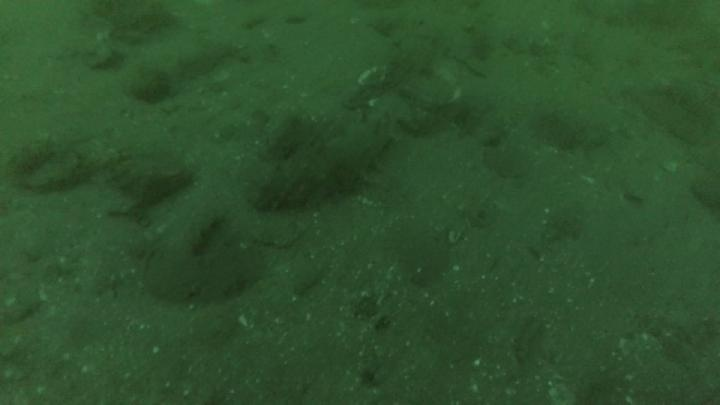holothurian: (247, 111, 398, 215)
